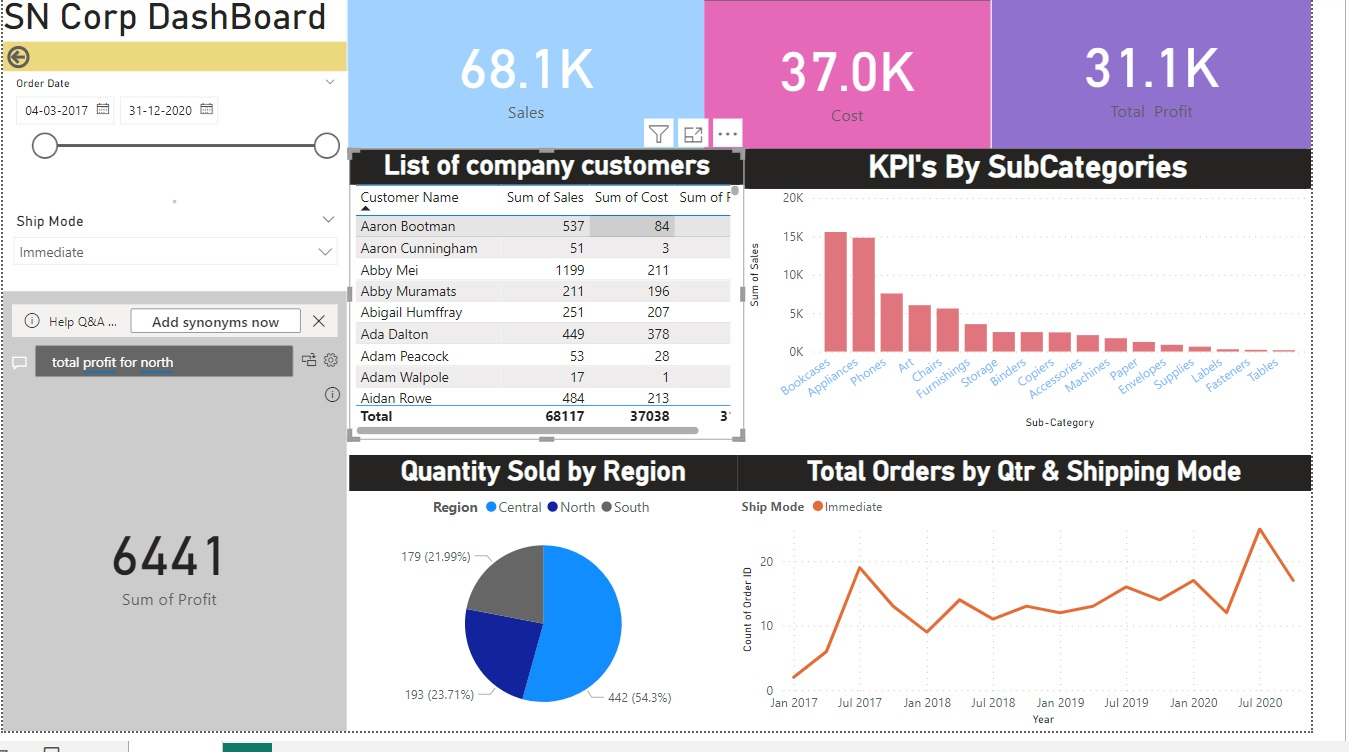

Layout of this report page (visuals, bound fields, positions):
{"tool":"powerbi","page":{"name":"Page 1","canvas":[1280,720],"ordinal":0},"visuals":[{"type":"card","fields":{"Values":["List of Orders.Sales"]},"box":[336,0,350,150],"z":0},{"type":"card","fields":{"Values":["List of Orders.Cost"]},"box":[686,0,280,150],"z":1000},{"type":"card","fields":{"Values":["List of Orders.Profit"]},"box":[966.7,0,313.3,150],"z":2000},{"type":"tableEx","title":"List of company customers","fields":{"Values":["List of Orders.Customer Name","List of Orders.Sales","List of Orders.Cost","List of Orders.Profit"]},"box":[338.3,150,386.7,285],"z":3000},{"type":"actionButton","title":"SN  Corp DashBoard","box":[0,0,336,76],"z":4000},{"type":"clusteredColumnChart","title":"KPI''s By SubCategories","fields":{"Category":["List of Orders.Sub-Category"],"Y":["List of Orders.Sales"]},"box":[725,150,555,278.3],"z":5000},{"type":"lineChart","title":"Total Orders by Qtr & Shipping Mode","fields":{"Y":["List of Orders.Order ID"],"Category":["List of Orders.Order Date.Variation.Date Hierarchy.Year","List of Orders.Order Date.Variation.Date Hierarchy.Quarter"],"Series":["List of Orders.Ship Mode"]},"box":[717.5,450,562.5,270],"z":6000},{"type":"pieChart","title":"Quantity Sold by Region","fields":{"Y":["List of Orders.Quantity"],"Category":["List of Orders.Region"]},"box":[338.3,450,380,270],"z":7000},{"type":"map","fields":{"Category":["List of Orders.Country"],"Size":["List of Orders.Sales"]},"box":[0,290,336.7,430],"z":8000},{"type":"slicer","fields":{"Values":["List of Orders.Order Date"]},"box":[0,75,337.5,120],"z":9000},{"type":"slicer","fields":{"Values":["List of Orders.Ship Mode"]},"box":[0,207.5,337.5,82.5],"z":10000},{"type":"textbox","box":[161.7,195,13.3,13.3],"z":11000},{"type":"qnaVisual","box":[0,290,336,430],"z":12000}]}

Visuals, with their boxes in screenshot pixels (x1, y1, x2, y2):
card - List of Orders.Sales: 342 0 703 144
card - List of Orders.Cost: 703 0 991 144
card - List of Orders.Profit: 992 0 1315 144
"List of company customers" tableEx: 345 144 743 437
"SN  Corp DashBoard" actionButton: 0 0 342 68
"KPI''s By SubCategories" clusteredColumnChart: 743 144 1315 430
"Total Orders by Qtr & Shipping Mode" lineChart: 735 453 1315 731
"Quantity Sold by Region" pieChart: 345 453 736 731
map - List of Orders.Country x List of Orders.Sales: 0 288 343 731
slicer - List of Orders.Order Date: 0 67 344 190
slicer - List of Orders.Ship Mode: 0 203 344 288
textbox: 163 190 177 204
qnaVisual: 0 288 342 731
